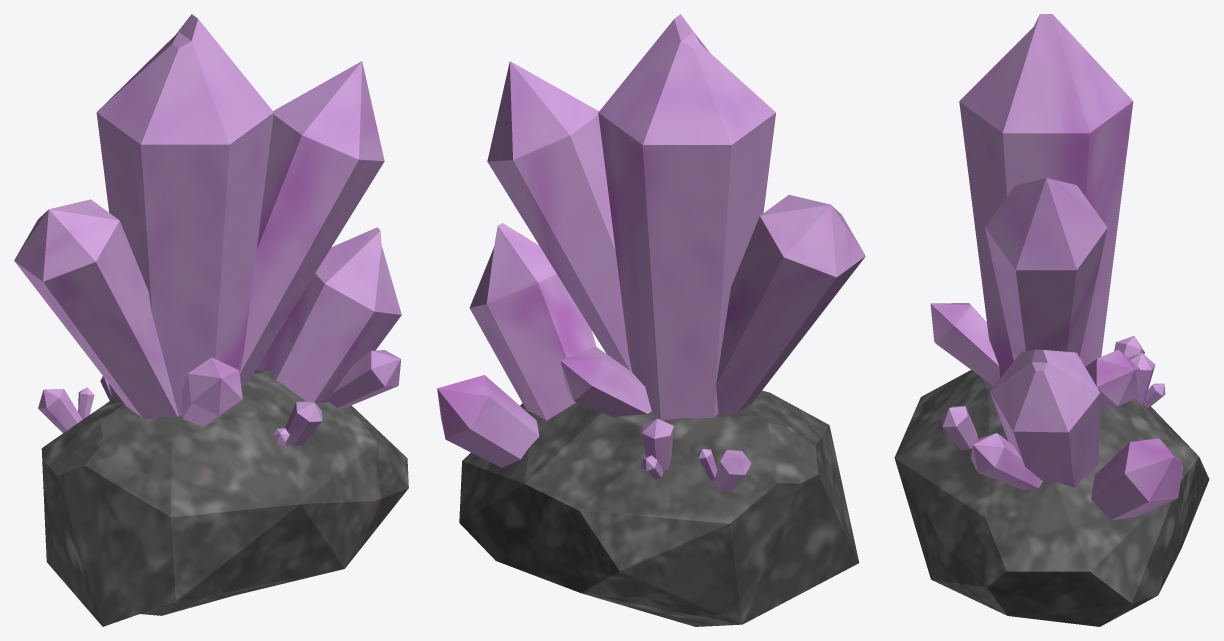
The model's file is quartz gem.fbx.
3 views of the same model, side by side, from view 1: azimuth 30°, elevation 25°; view 2: azimuth 150°, elevation 25°; view 3: azimuth 270°, elevation 25° (orthographic). The views are drawn at different scales.
Parts seen in each view (by area): view 1: Icosphere.001; view 2: Icosphere.001; view 3: Icosphere.001.
Part boxes in pixels (<box>): Icosphere.001: <box>14,14,408,626</box>; Icosphere.001: <box>437,14,865,626</box>; Icosphere.001: <box>894,14,1209,626</box>.
Bounding box in the file's own units: 31.91 × 48.14 × 24.23.
